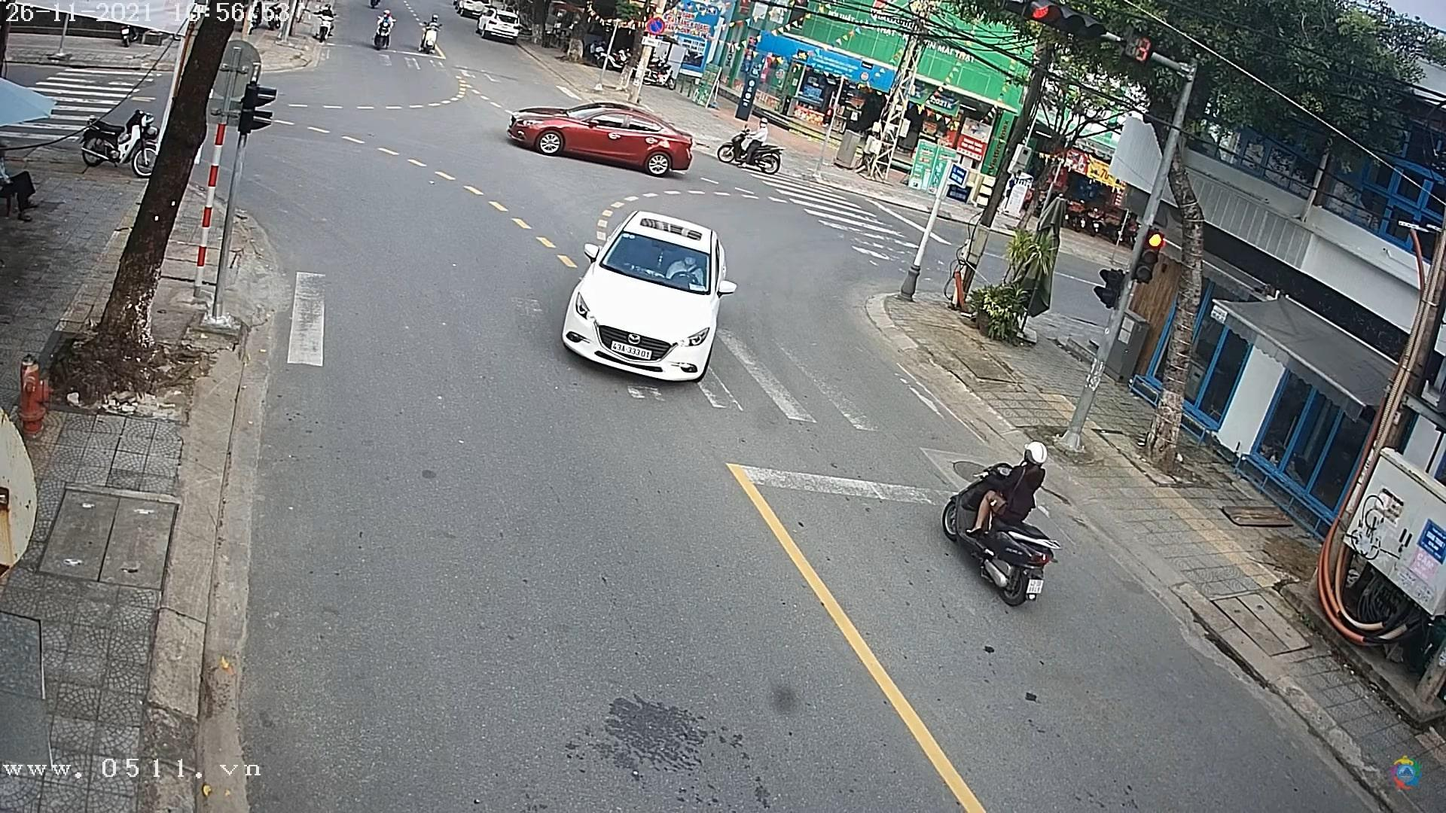car: (560, 202, 734, 383)
motorbike: (423, 27, 440, 56)
